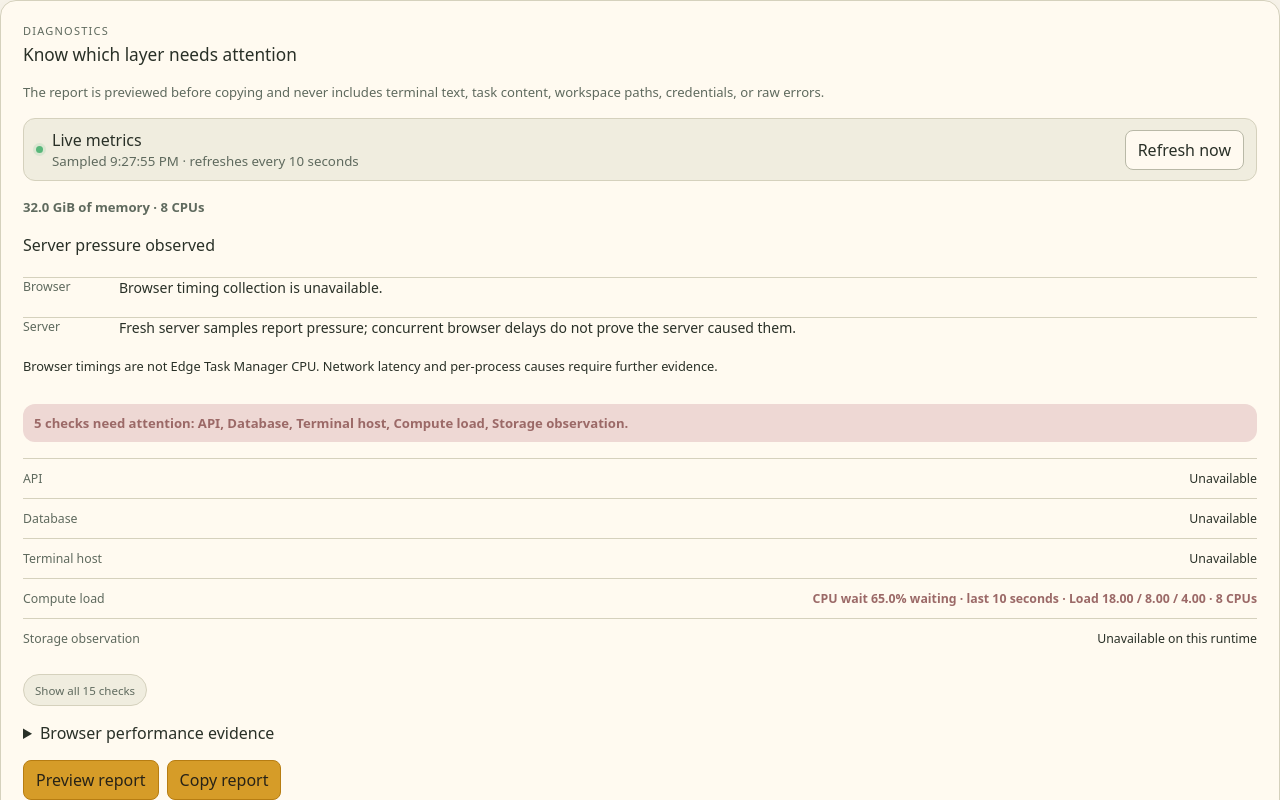
CPU-only contention does not accuse memory and clears when load recovers (reported memory verdicts)
Expected: the text "32.0 GiB of memory · 8 CPUs" does not show "under memory pressure", x1=23 y1=198 x2=204 y2=216
Expected: the text "32.0 GiB of memory · 8 CPUs" does not show "pressure", x1=23 y1=198 x2=204 y2=216
Click the button "Show all 15 checks".
click(85, 690)  # box x1=23 y1=674 x2=147 y2=706
(page scrolled)
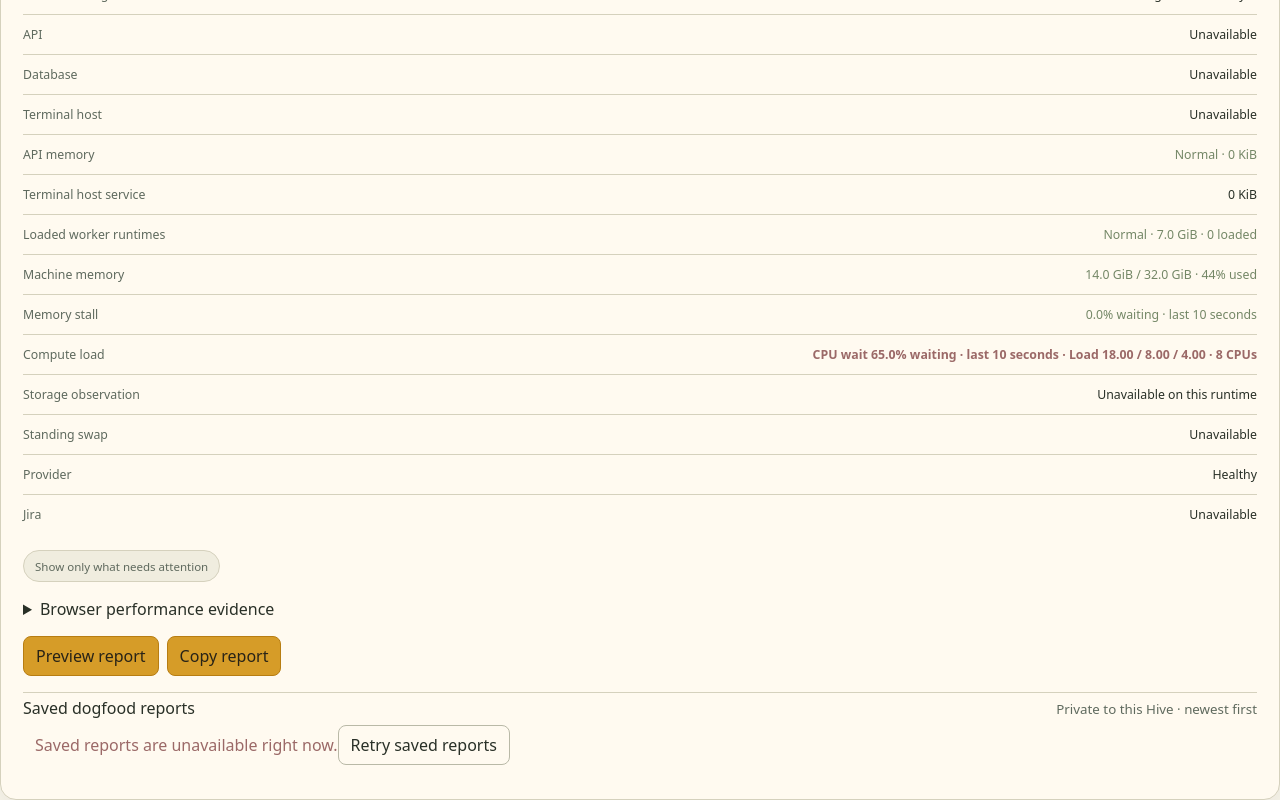
Click the button "Show only what needs attention".
click(122, 566)  # box x1=23 y1=550 x2=220 y2=582
(page scrolled)
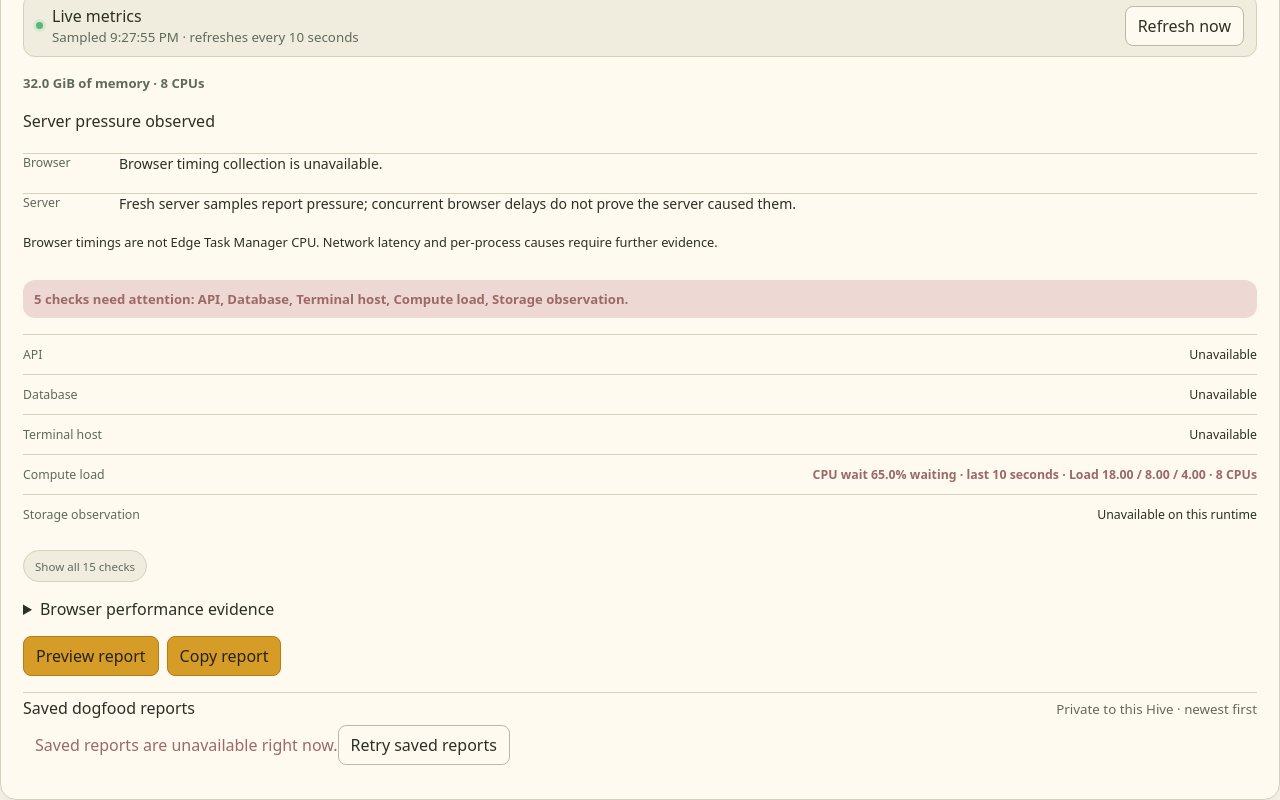
Click the button "Refresh now".
click(1184, 26)  # box x1=1125 y1=6 x2=1244 y2=46
(page scrolled)
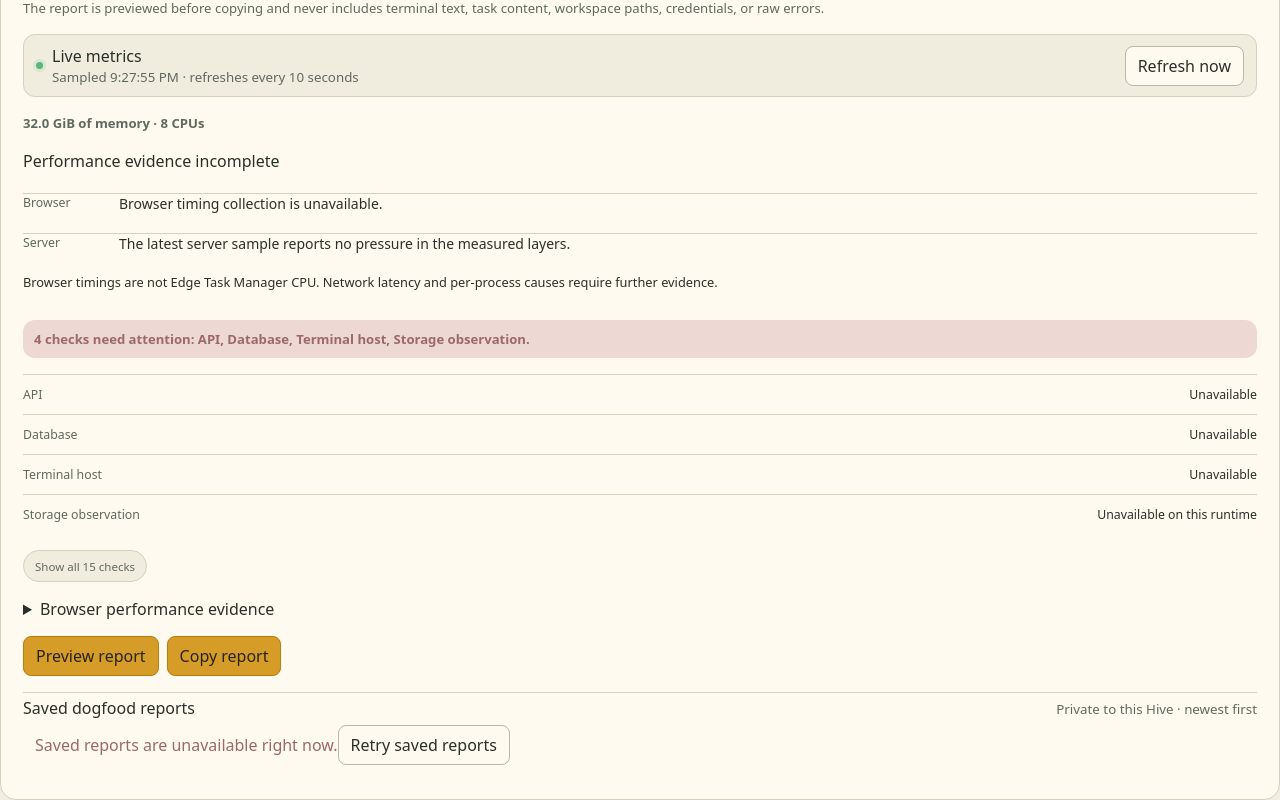
Expected: the text "Compute load" is gone
